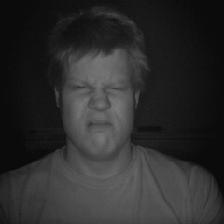sad: (38, 6, 147, 164)
